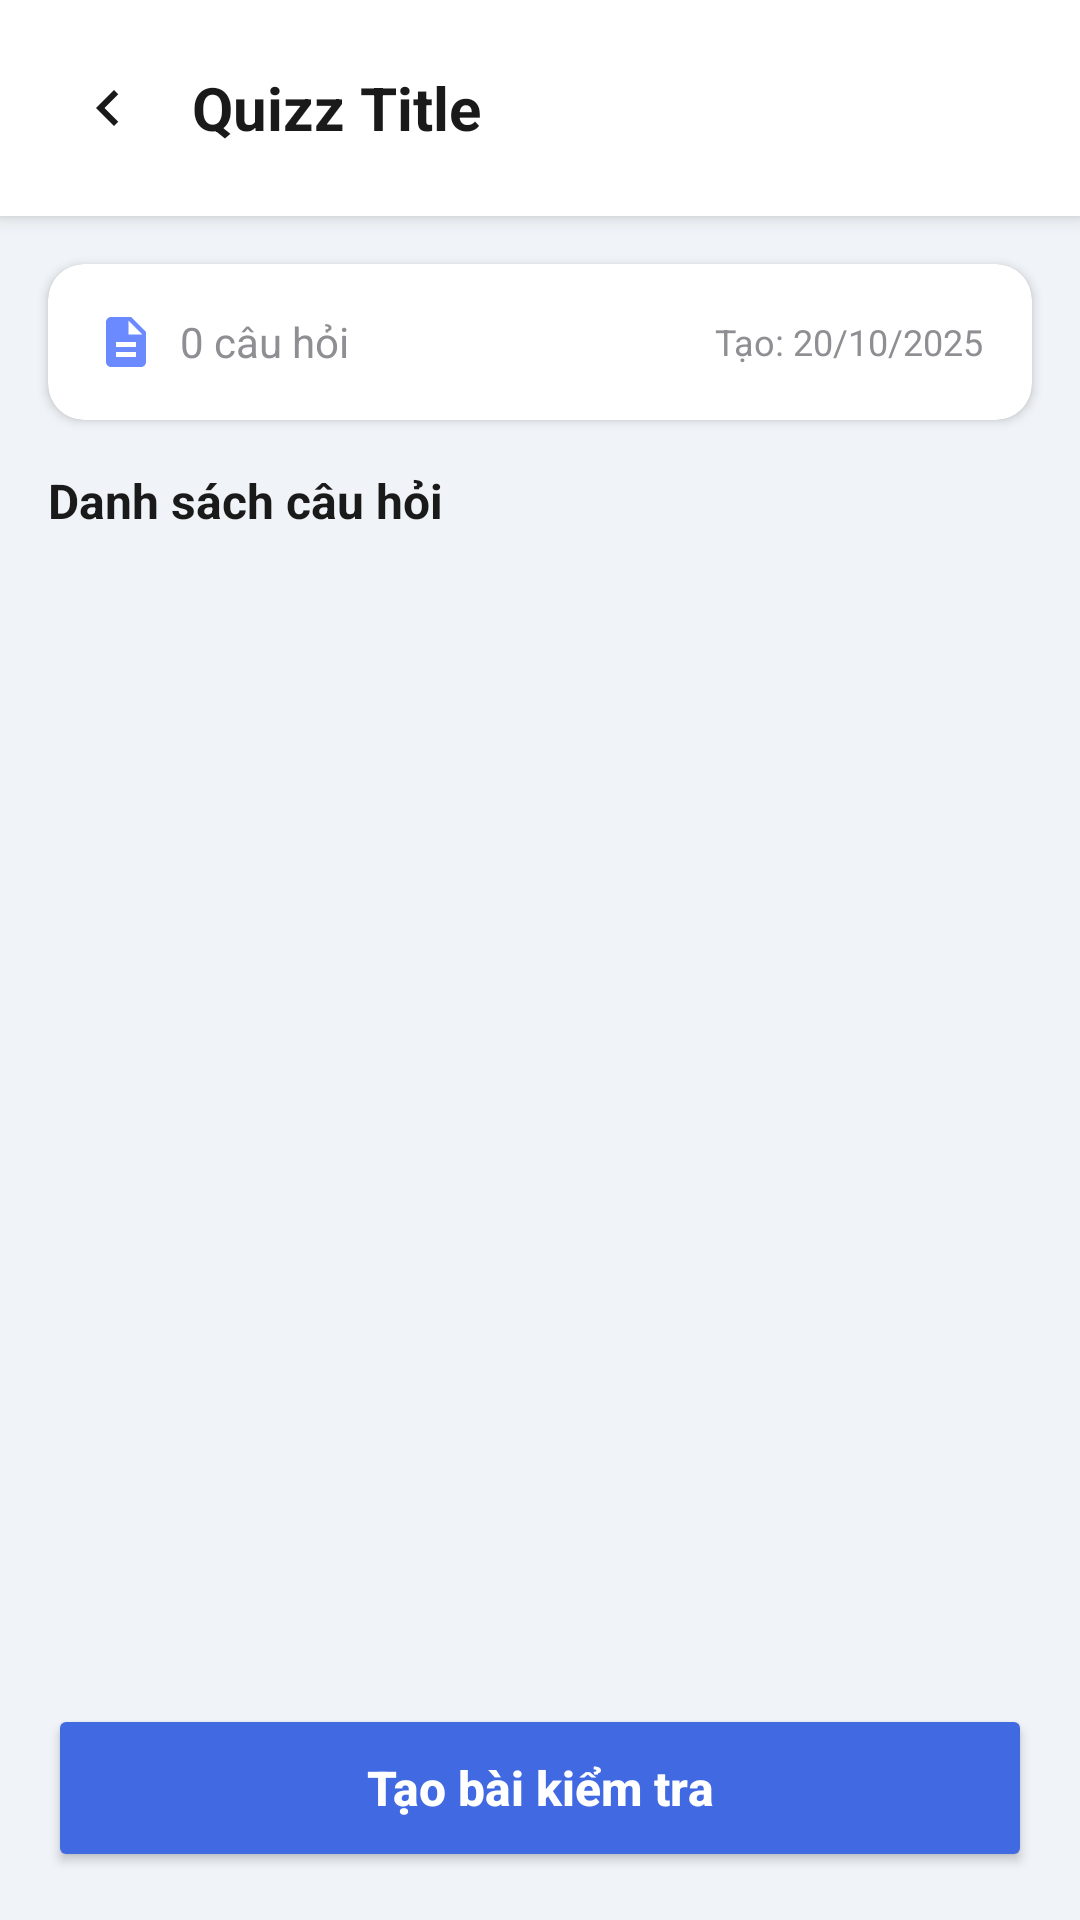

Locate icon controls on the screen. Image size 1080x1920, boxes as (x1, y1, x2, y2).
Quay lại: (96, 90, 118, 126)
